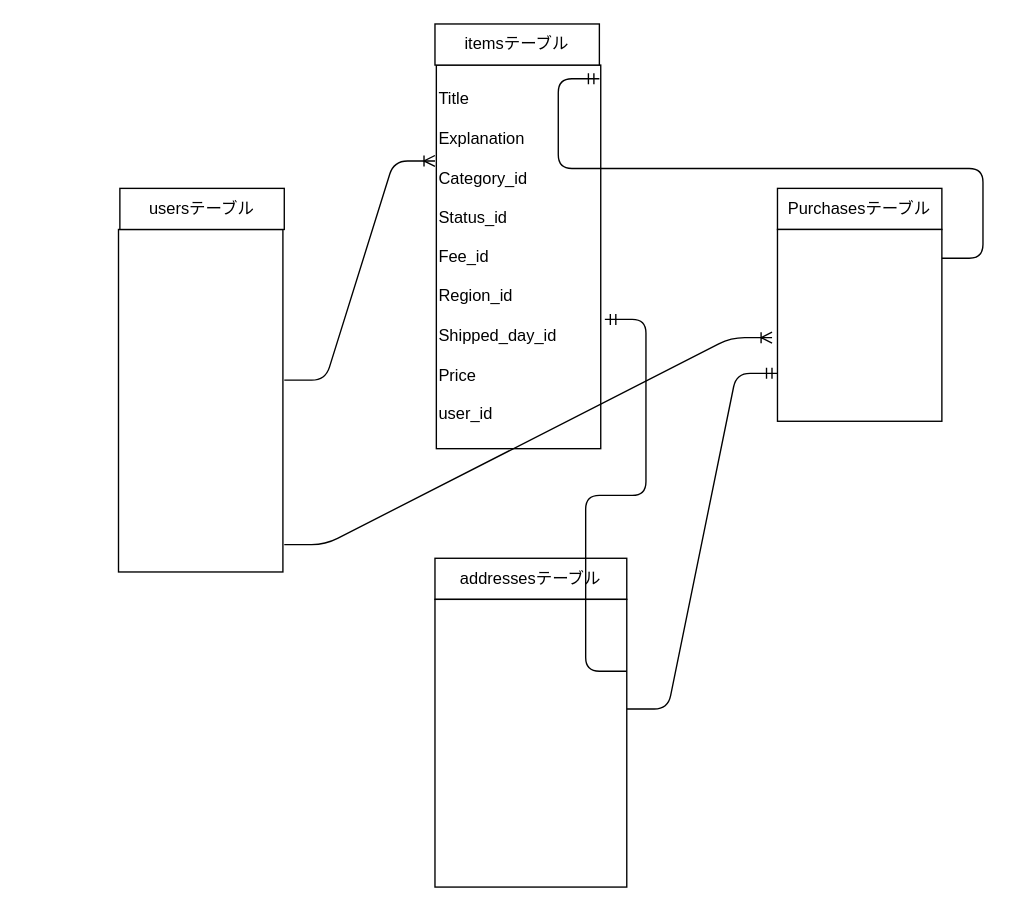
The diagram is 1018 pixels wide and 911 high, and some of its shapes have lost their labels. The centre of each missing label's shape, as x and y in pixels:
Nickname Email Encrypted_assword First_name Last_name First_kana Last_kana Birth: (x=200, y=400)
user_id item_id: (x=859, y=324)
Zip_code Region_id City Street Building Phone_number Purchases_id: (x=530, y=742)
